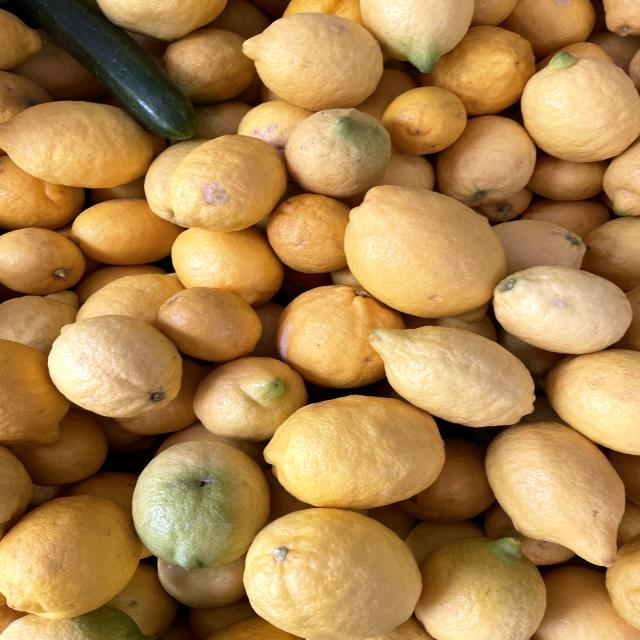lemon: (227, 495, 429, 640), (336, 175, 515, 322), (480, 413, 636, 571), (350, 316, 542, 429), (32, 305, 192, 419), (516, 43, 640, 163)
